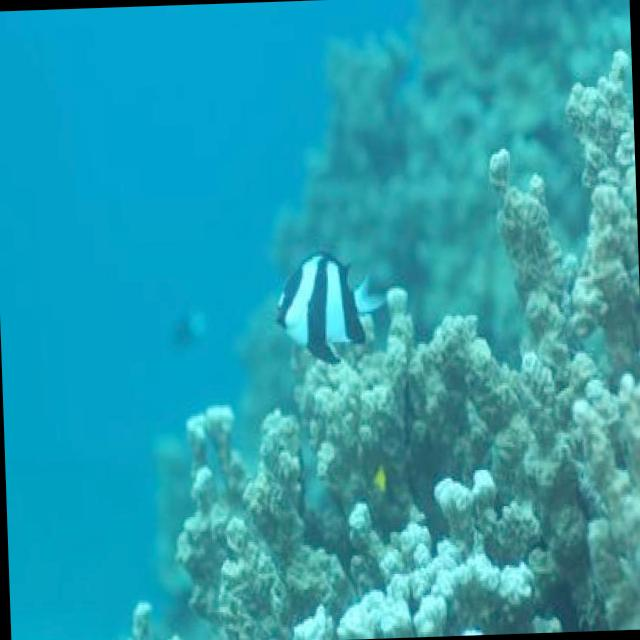Three_striped DasmselFish: (266, 246, 388, 363)
